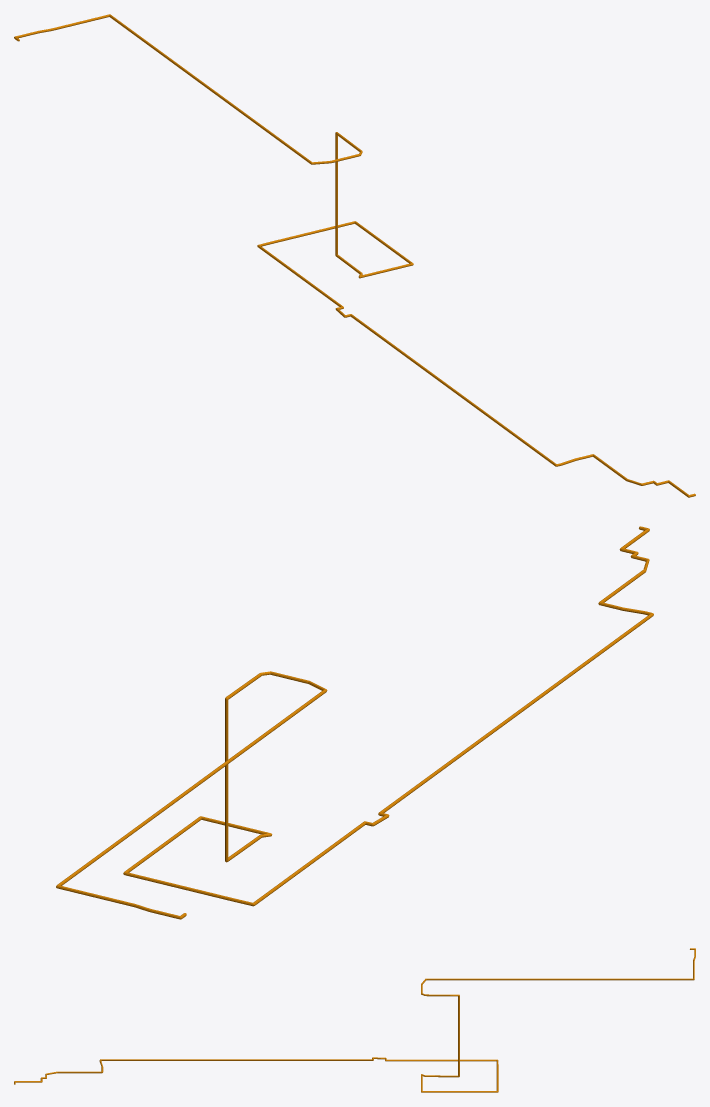
3 views of the same model, one above another, from view 1: azimuth 30°, elevation 25°; view 2: azimuth 150°, elevation 25°; view 3: azimuth 270°, elevation 25° (orthographic). The views are drawn at different scales.
Size of the model in its own units: 1656 by 1020 by 7637.
